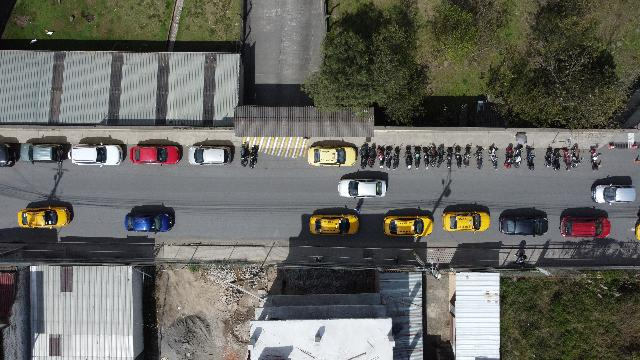Vehiculo: (18, 200, 74, 228), (560, 208, 610, 238), (124, 204, 176, 232), (338, 170, 388, 198), (498, 207, 548, 235), (309, 207, 359, 235), (383, 208, 433, 236), (442, 204, 490, 232), (308, 140, 358, 166), (590, 176, 636, 204), (68, 144, 122, 166), (130, 145, 180, 165), (21, 143, 64, 163), (188, 146, 230, 166), (0, 144, 16, 166)
